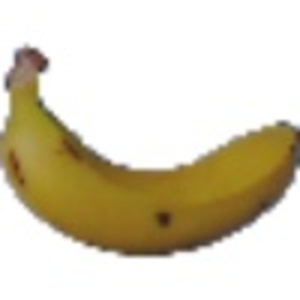banana: (5, 40, 294, 267)
